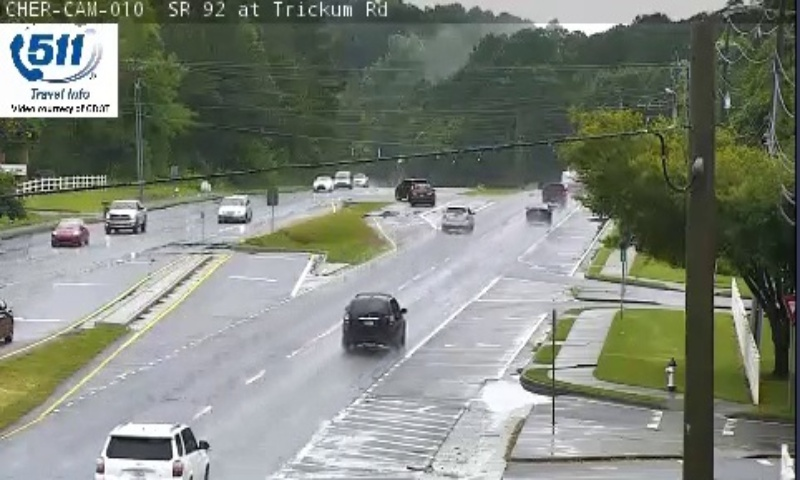car: (96, 424, 210, 480), (343, 294, 404, 342), (441, 205, 473, 229), (525, 202, 552, 221)
